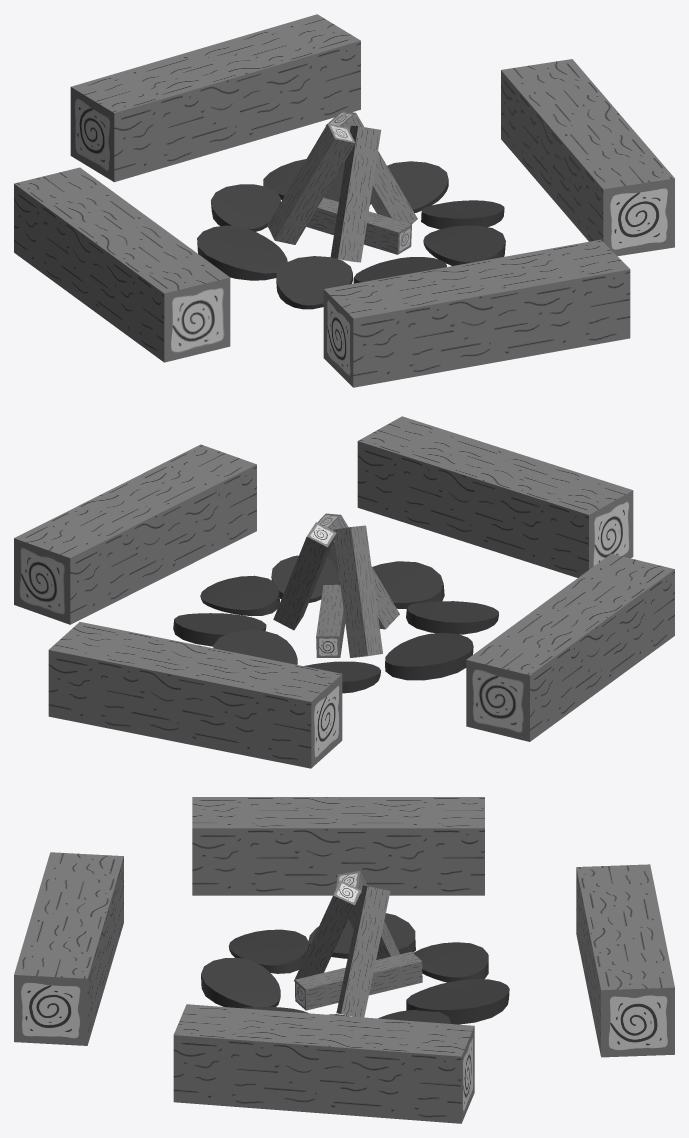
The model's file is Asset_Campfire.fbx.
The picture shows the model from 3 angles, top to bottom: view 1: azimuth 30°, elevation 25°; view 2: azimuth 150°, elevation 25°; view 3: azimuth 270°, elevation 25°; orthographic projection. The views are drawn at different scales.
Visible parts, largest first — view 1: polySurface93; view 2: polySurface93; view 3: polySurface93.
Part boxes in pixels (<box>): polySurface93: <box>14,14,674,387</box>; polySurface93: <box>14,416,674,768</box>; polySurface93: <box>14,797,674,1123</box>.
Bounding box in the file's own units: 344 × 371 × 73.61.
